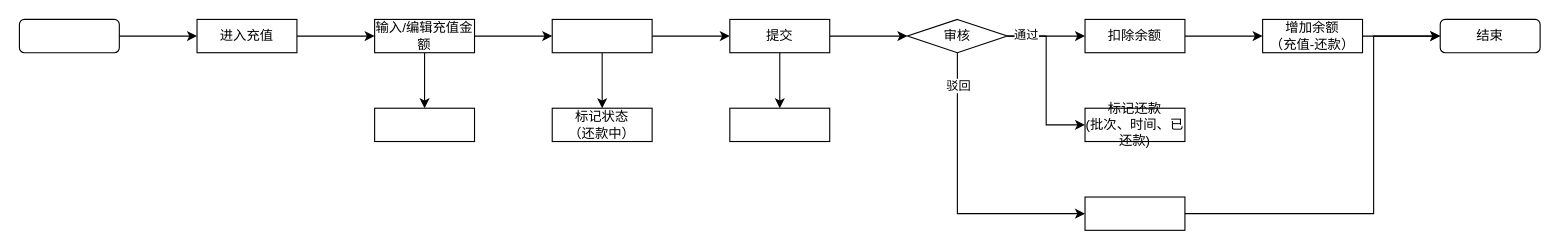
This 1560x250 diagram has some shape labels left out. The centre of each missing label's shape, as x and y in pixels:
冻结余额: (779,124)
匹配还款费用: (601,35)
回退状态 （待还款）: (1134,213)
开始: (68,35)
计入虚拟余额: (424,124)
